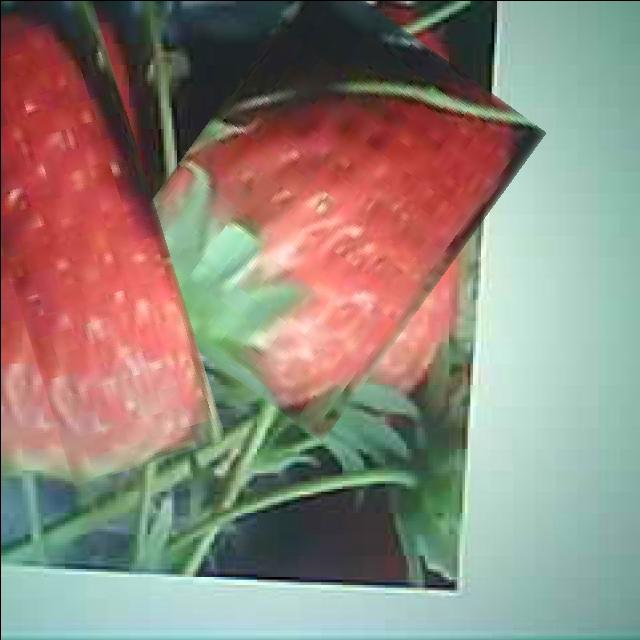strawberry: (138, 0, 503, 419), (0, 0, 191, 479)
